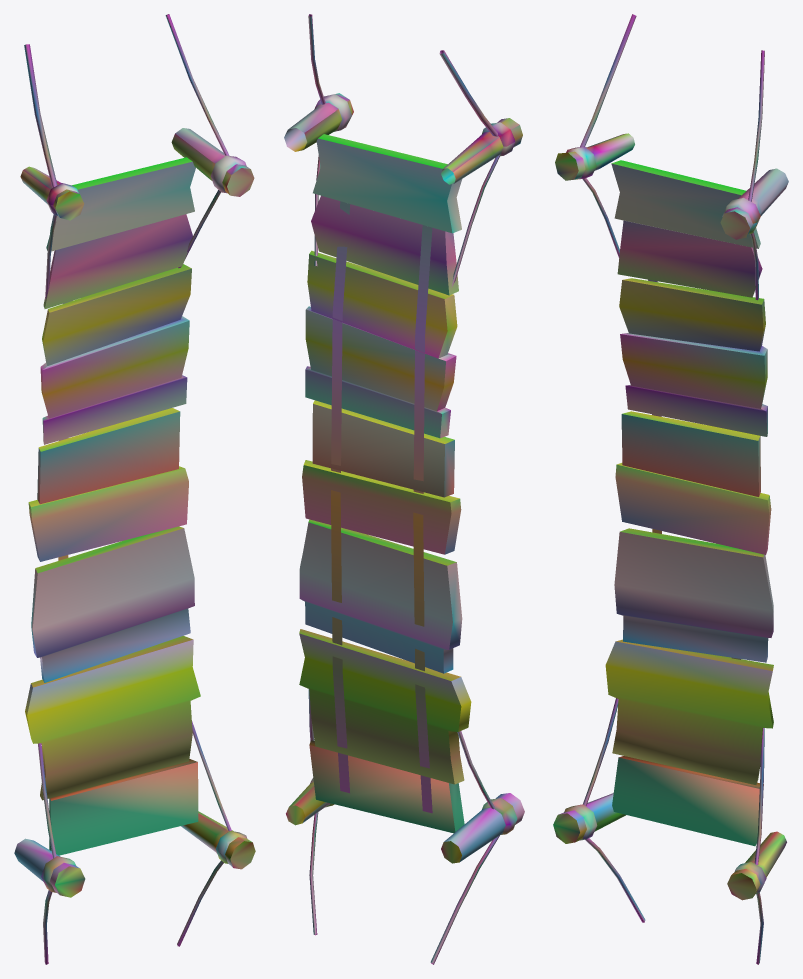
Rendered from Temple_Bridge.glb.
3 renders of one model, left to right at view 1: azimuth 30°, elevation 25°; view 2: azimuth 150°, elevation 25°; view 3: azimuth 330°, elevation 25°, orthographic. The views are drawn at different scales.
Parts seen in each view (by area): view 1: MeshNode_0; view 2: MeshNode_0; view 3: MeshNode_0.
Part boxes in pixels (bbox=[...]): MeshNode_0: bbox=[14, 14, 255, 964]; MeshNode_0: bbox=[284, 14, 524, 964]; MeshNode_0: bbox=[553, 14, 788, 964].
Size of the model in its own units: 20.84 by 89.77 by 10.23.
